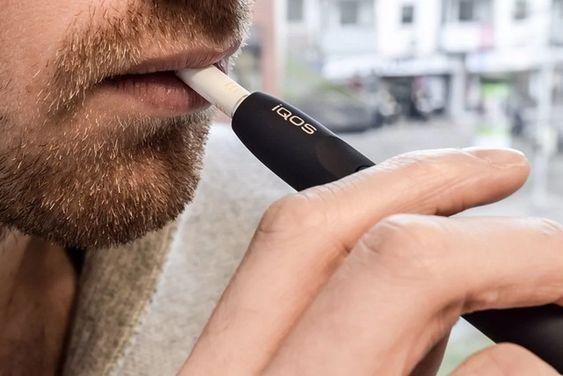iqos: (176, 67, 563, 374)
